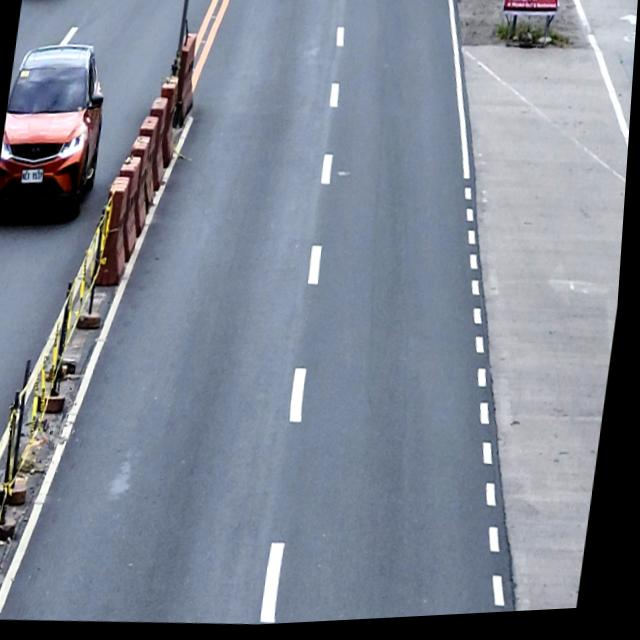Car: (0, 38, 114, 222)
License-Plate: (21, 164, 47, 185)
